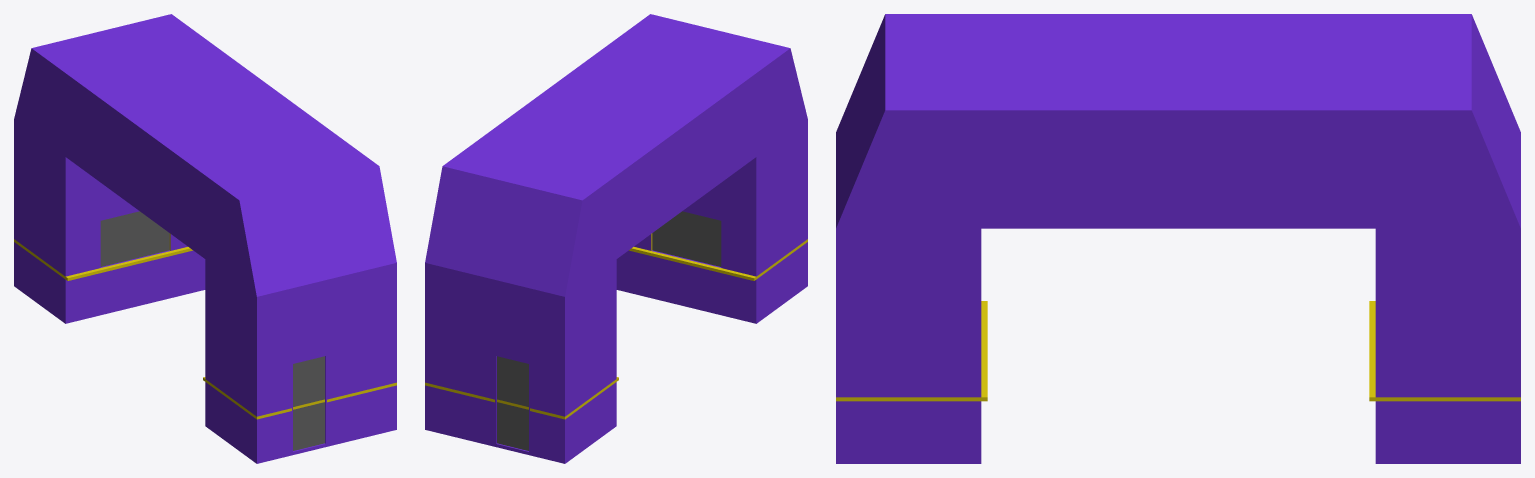
File: Entrance.glb
The picture shows the model from 3 angles, left to right: view 1: azimuth 30°, elevation 25°; view 2: azimuth 150°, elevation 25°; view 3: azimuth 270°, elevation 25°; orthographic projection. The views are drawn at different scales.
Visible parts, largest first — view 1: Cube; view 2: Cube; view 3: Cube.
Boxes of the visible parts, x1,y1,x2,y2 form: Cube: (14,14,396,463); Cube: (425,14,807,463); Cube: (836,14,1520,463).
Size of the model in its own units: 3.5 by 5.99 by 10.51.
